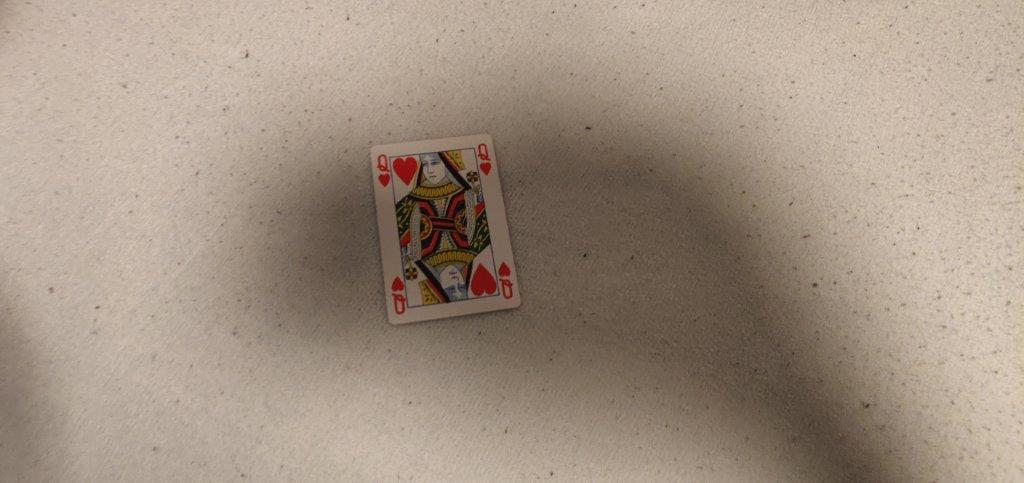QH: (369, 148, 396, 193), (474, 141, 494, 177)
